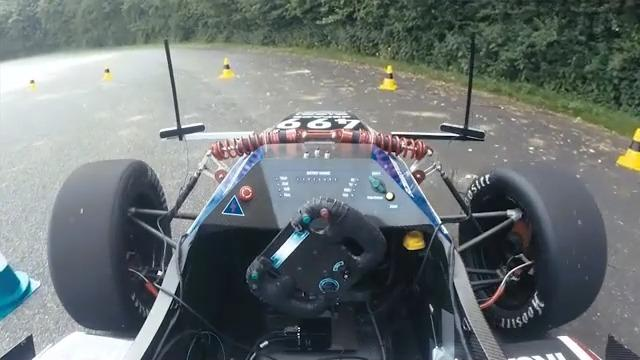blue_cone: (0, 228, 44, 326)
yellow_cone: (609, 115, 640, 175), (377, 62, 402, 94), (217, 57, 238, 82)
